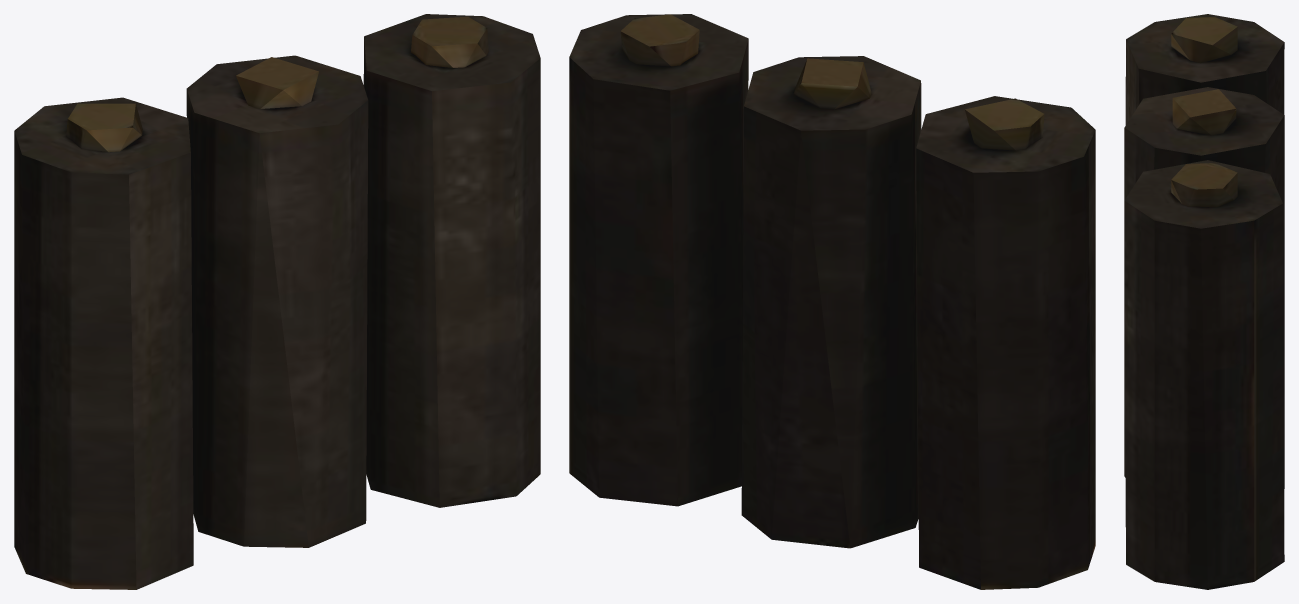
Rendered from cantina_prop_containers_B_lod1.glb.
The picture shows the model from 3 angles, left to right: view 1: azimuth 30°, elevation 25°; view 2: azimuth 150°, elevation 25°; view 3: azimuth 270°, elevation 25°; orthographic projection. The views are drawn at different scales.
Visible parts, largest first — view 1: cantina_prop_containers_B; view 2: cantina_prop_containers_B; view 3: cantina_prop_containers_B.
Boxes of the visible parts, x1,y1,x2,y2 form: cantina_prop_containers_B: [14, 14, 540, 589]; cantina_prop_containers_B: [569, 14, 1095, 589]; cantina_prop_containers_B: [1124, 14, 1284, 589].
Size of the model in its own units: 0.7648 by 0.63 by 0.2409.
Materials: 1 (1 with a texture image).
